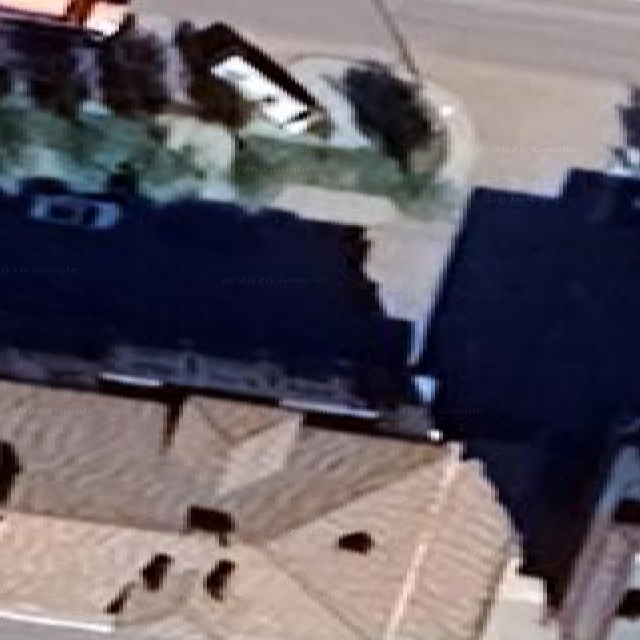car: (0, 0, 128, 36)
